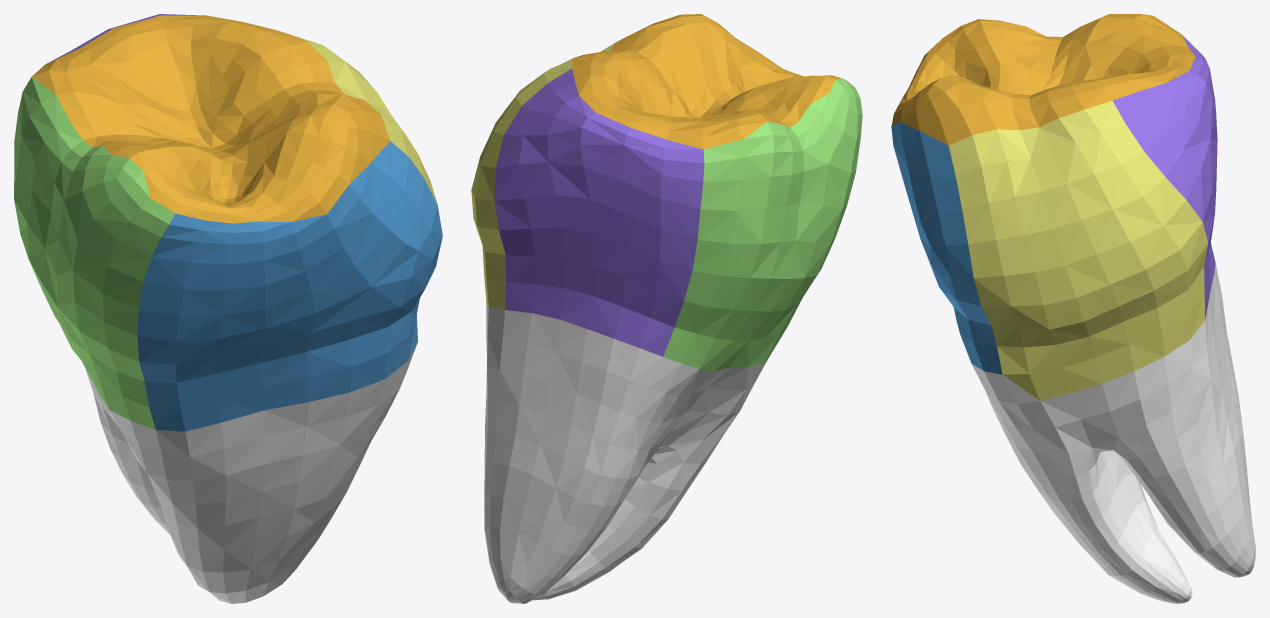
The model's file is tooth_38_annotated.glb.
3 renders of one model, left to right at view 1: azimuth 30°, elevation 25°; view 2: azimuth 150°, elevation 25°; view 3: azimuth 270°, elevation 25°, orthographic. The views are drawn at different scales.
Visible parts, largest first — view 1: FDI_38; view 2: FDI_38; view 3: FDI_38.
Boxes of the visible parts, x1=… form: FDI_38: x1=14, y1=14, x2=442, y2=603; FDI_38: x1=471, y1=14, x2=862, y2=603; FDI_38: x1=891, y1=14, x2=1255, y2=603.
Bounding box in the file's own units: 0.00952 × 0.0146 × 0.00947.
